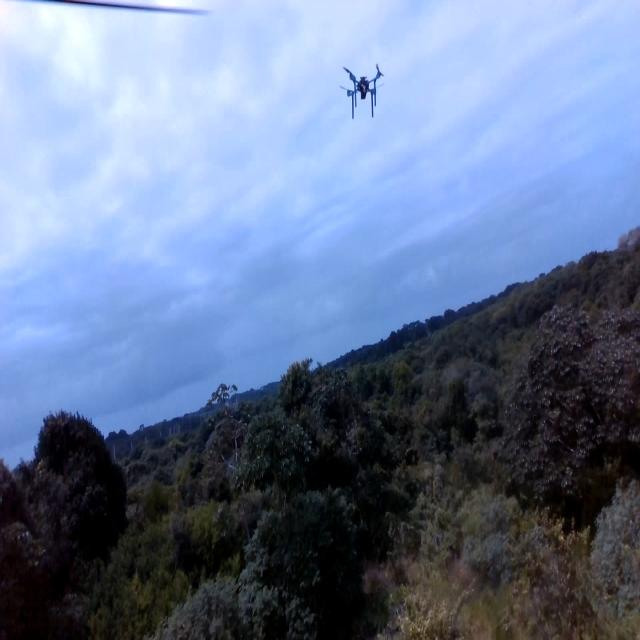-uav-: (338, 50, 388, 123)
